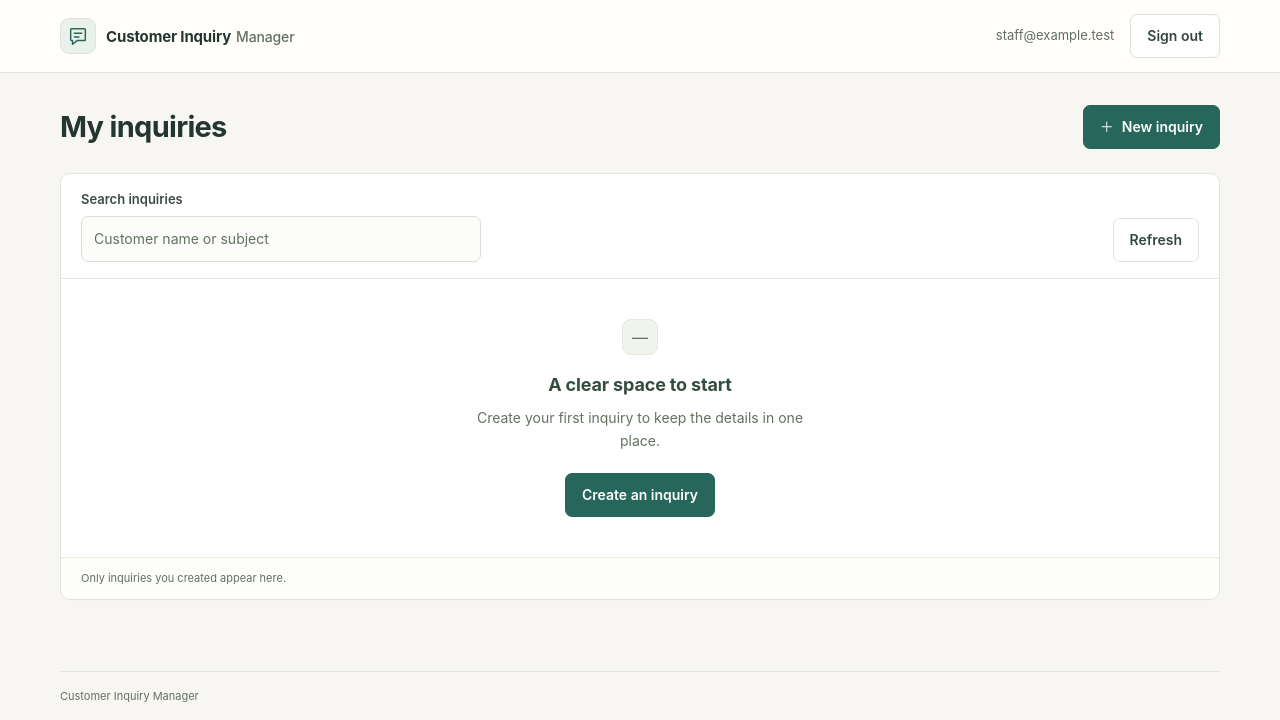
Test: logout failure shows feedback, retains the session and allows a successful retry
Click the button "Sign out" at (1175, 36), box [1130,14,1220,58]
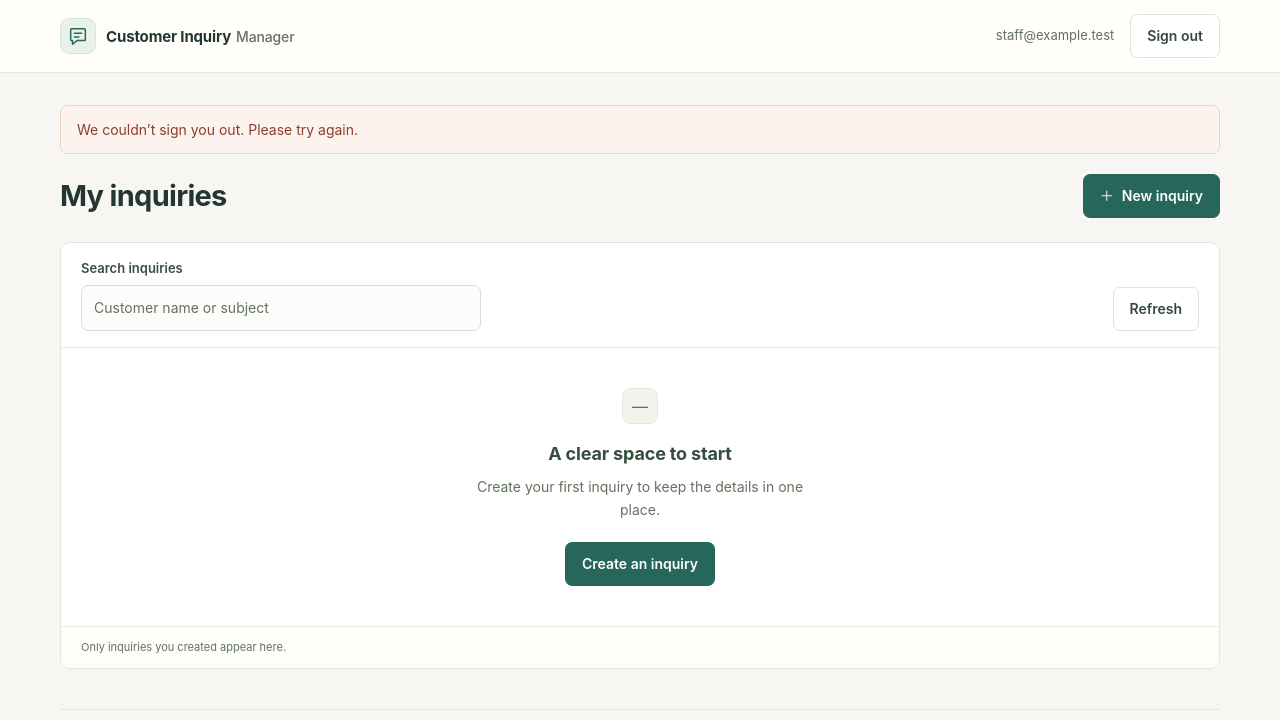
Expected: the text "staff@example.test" is shown, [996,26,1114,46]
Expected: the message "We couldn’t sign you out. Please try again." is shown, [60,105,1220,154]
Click the button "Sign out" at (1175, 36), box [1130,14,1220,58]
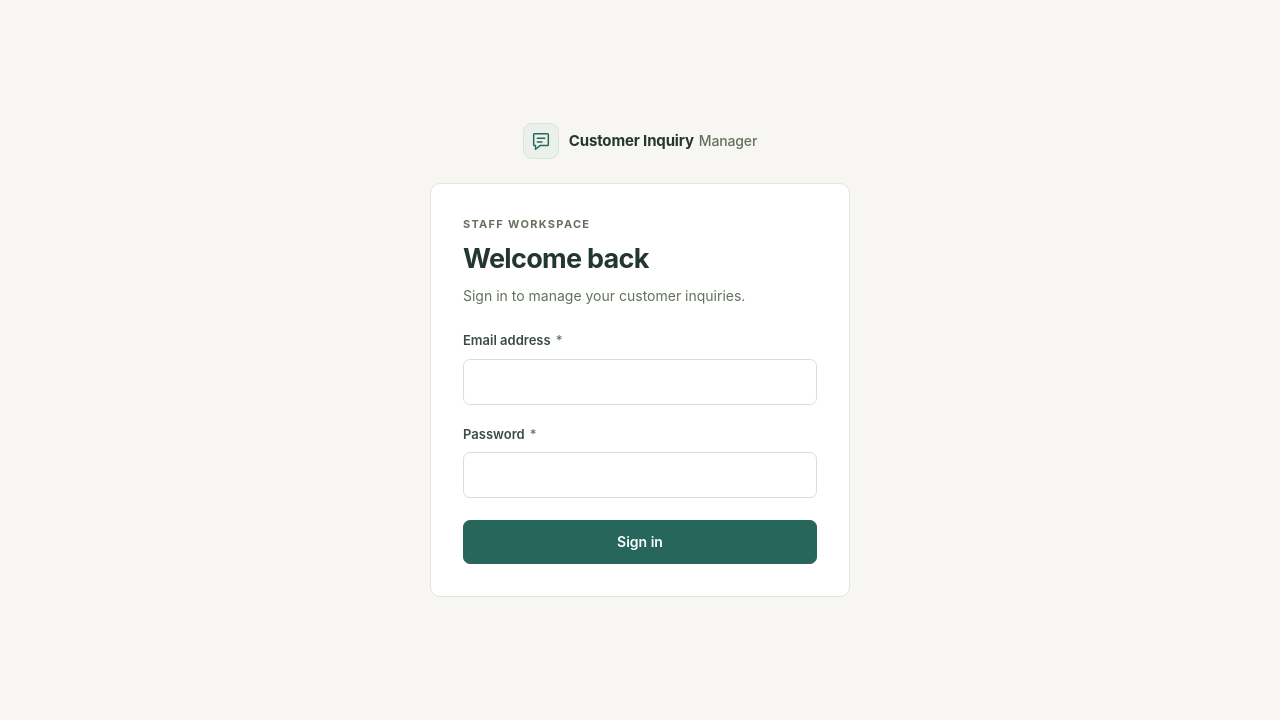
Expected: the heading "Welcome back" is shown, [463,242,649,275]
Expected: the text "staff@example.test" is gone
Expected: the message "We couldn’t sign you out. Please try again." is gone
